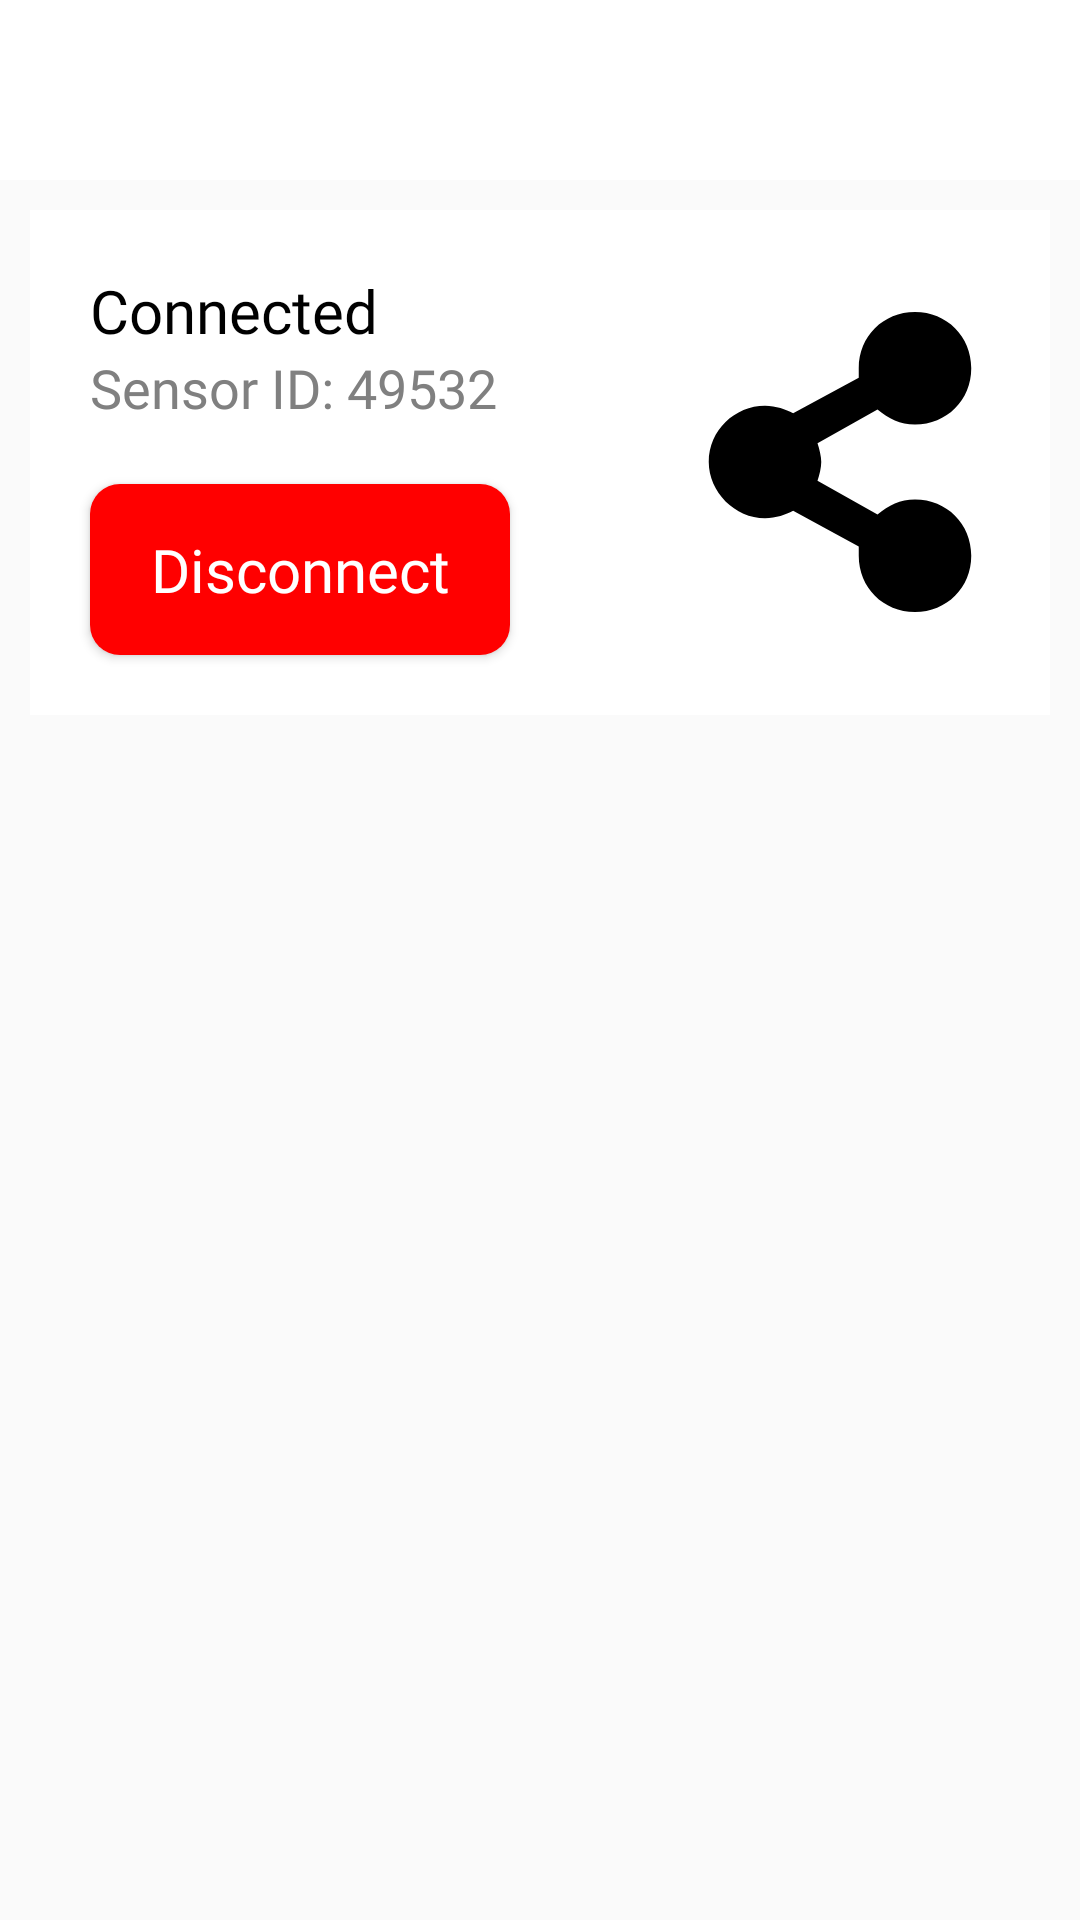

Point at icon controls on the screen. Image size 1080*1920, points as [x,y].
connect: [840,462]
